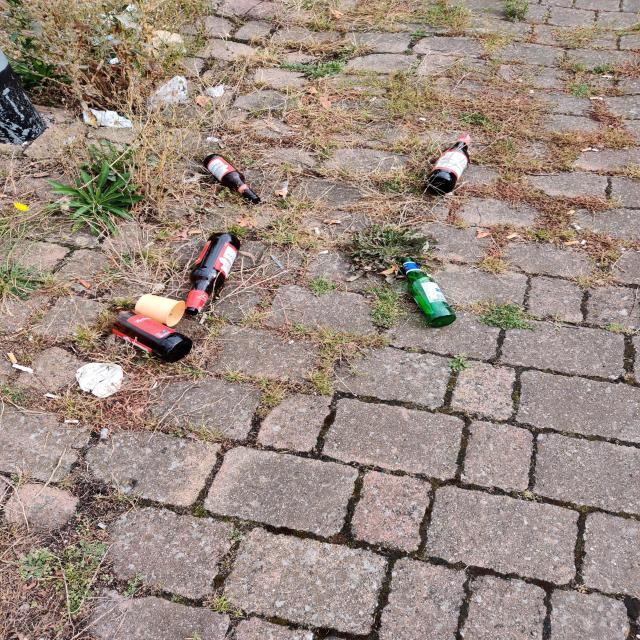litter: (98, 233, 249, 381), (417, 124, 483, 198), (70, 92, 154, 140), (401, 249, 450, 328), (198, 145, 253, 206), (124, 289, 191, 332)
